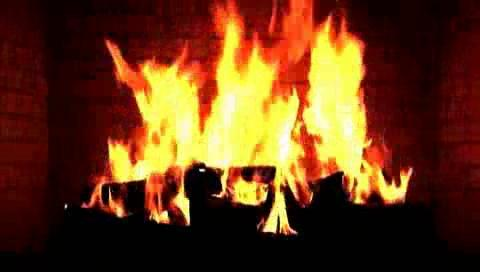fire: (96, 17, 403, 221)
